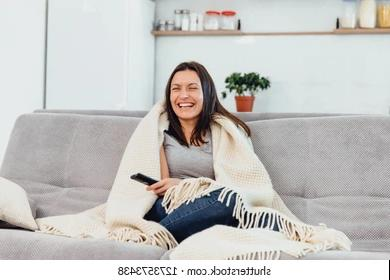blanket: (34, 99, 353, 261)
short sleeve shirt: (161, 124, 216, 188)
trousers: (147, 187, 282, 245)
